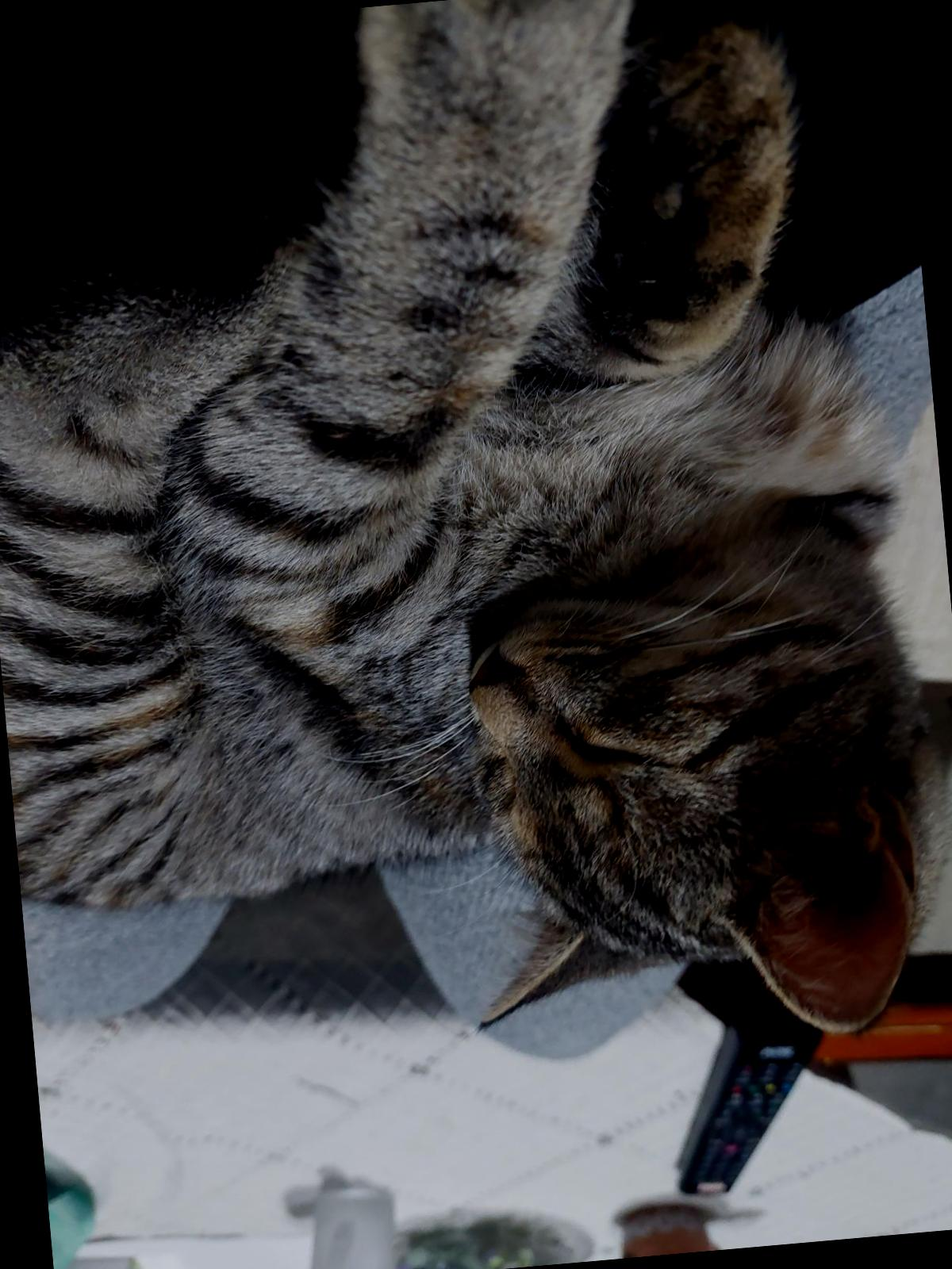macka: (0, 0, 943, 1106)
